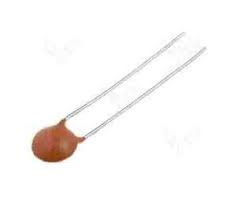ceramic capacitor: (5, 71, 171, 195)
